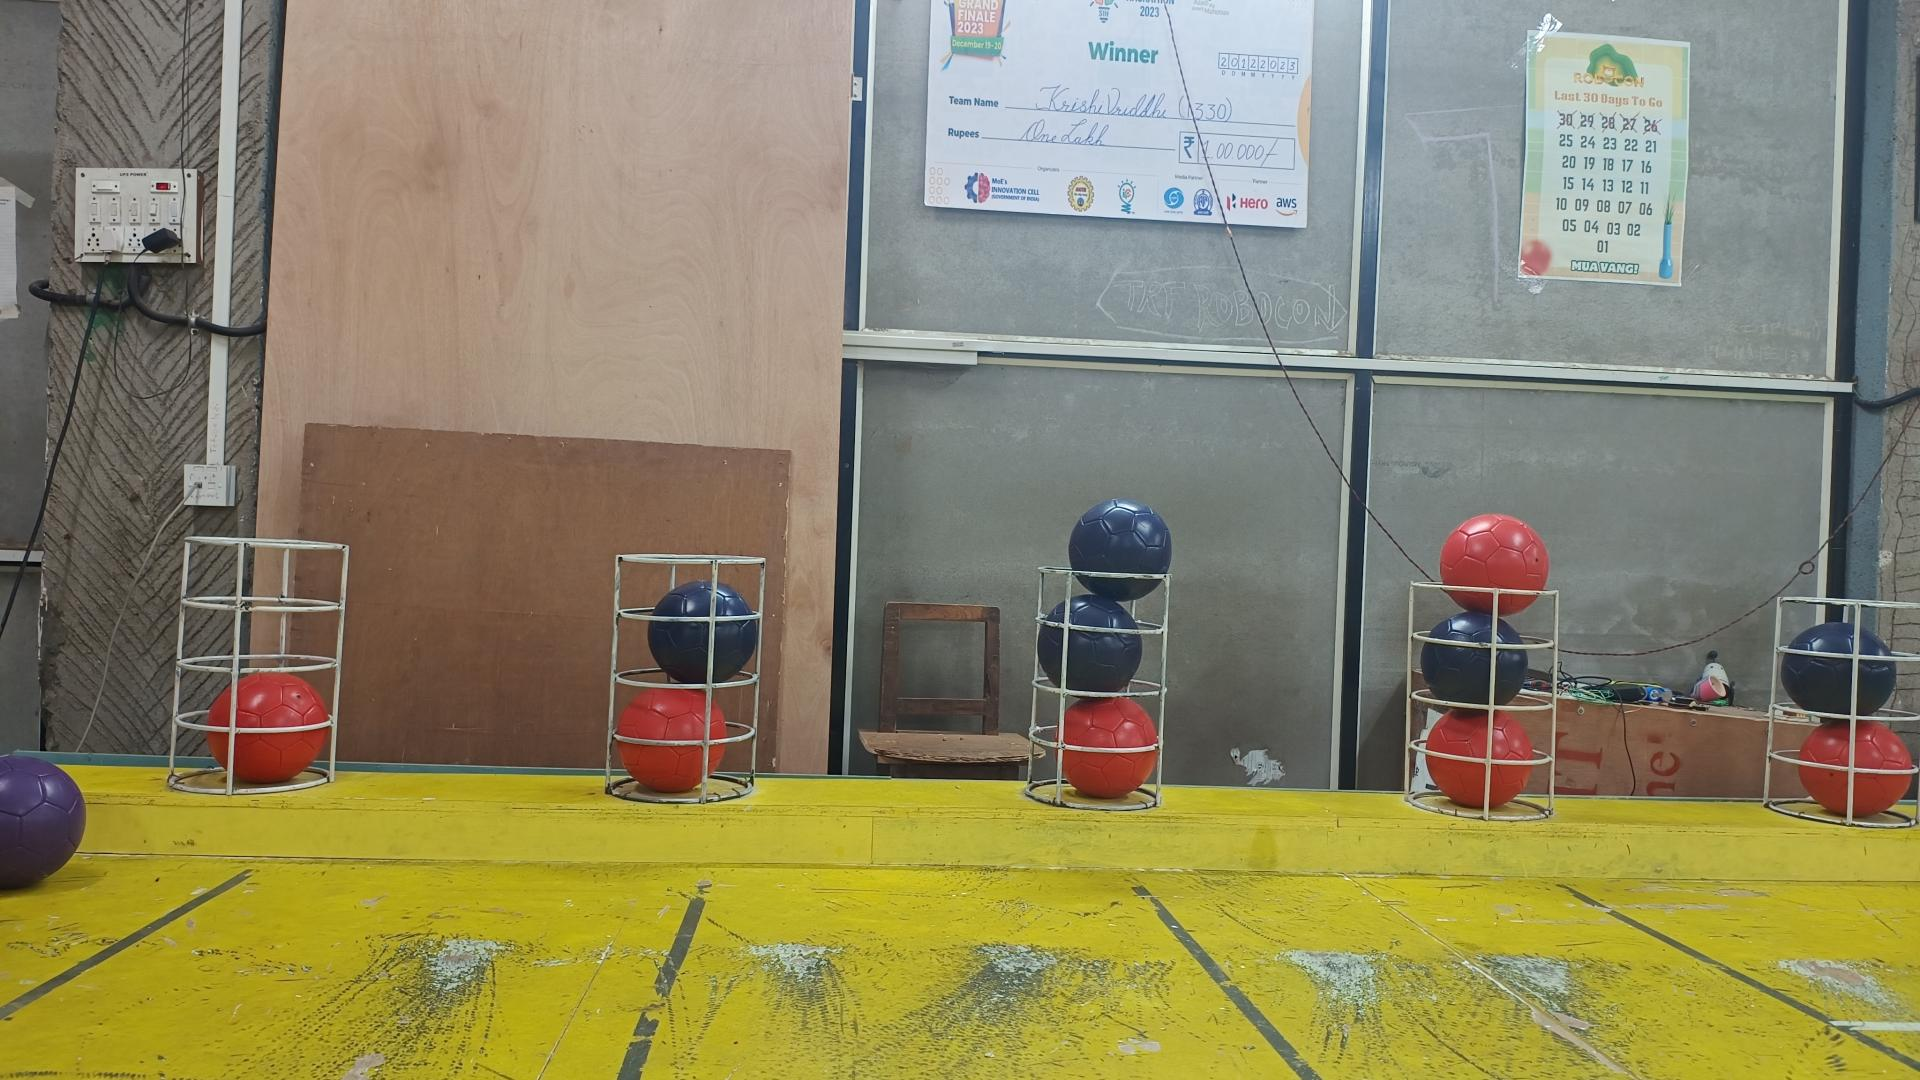dhoka: (1782, 622, 1898, 720), (649, 582, 757, 686), (1039, 592, 1143, 694), (1068, 498, 1170, 600), (1422, 612, 1530, 705)
laale: (206, 671, 330, 783), (615, 686, 728, 791), (1800, 720, 1912, 818), (1052, 698, 1159, 799), (1440, 514, 1548, 615), (1425, 708, 1534, 806)
